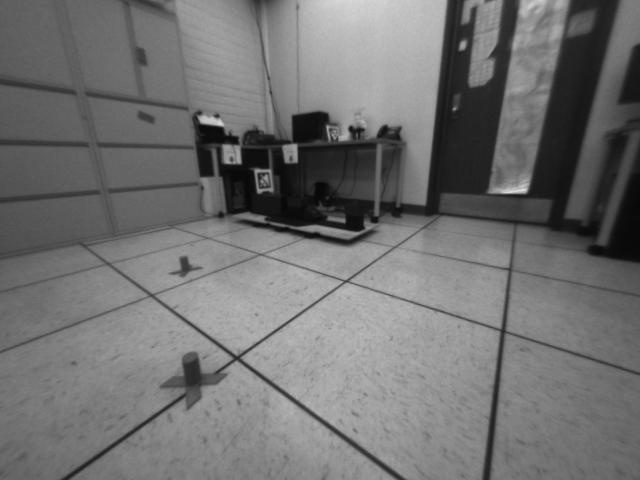X: (159, 351, 229, 412), (168, 255, 205, 279)
